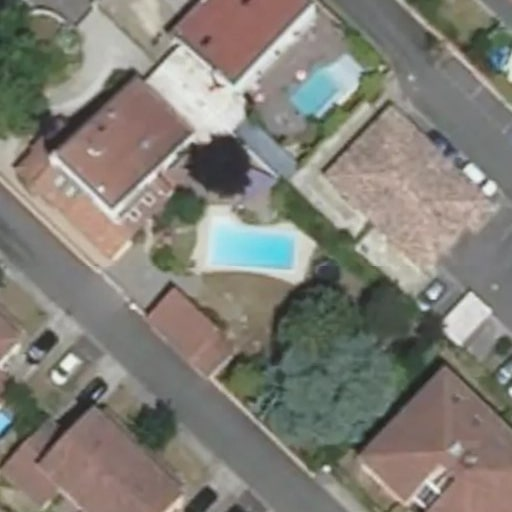pool: (198, 215, 299, 278), (289, 52, 361, 124)
